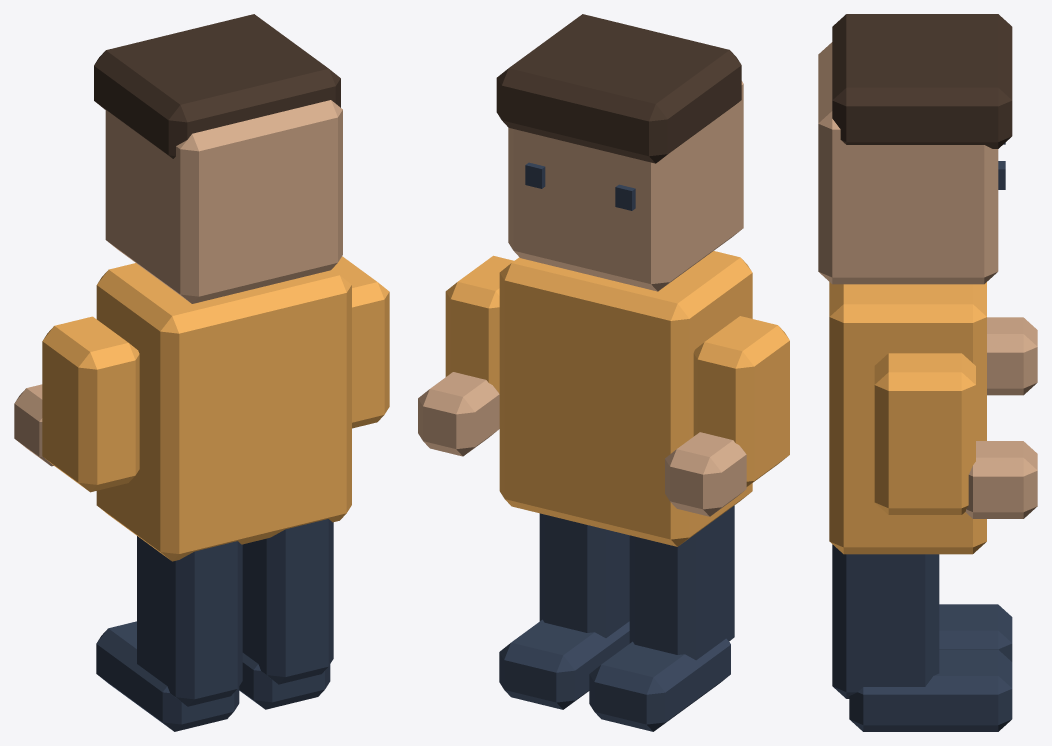
The model's file is agent-qa.glb.
3 views of the same model, side by side, from view 1: azimuth 30°, elevation 25°; view 2: azimuth 150°, elevation 25°; view 3: azimuth 270°, elevation 25° (orthographic). The views are drawn at different scales.
Visible parts, largest first — view 1: Torso.002, Head.002, Hair.002, Leg.004, Sleeve.004, Leg.005, Sleeve.005, Shoe.004, Shoe.005, Hand.004; view 2: Torso.002, Head.002, Hair.002, Leg.004, Sleeve.004, Leg.005, Shoe.004, Shoe.005, Sleeve.005, Hand.004, Hand.005; view 3: Head.002, Torso.002, Hair.002, Sleeve.005, Leg.005, Shoe.005, Hand.005, Hand.004, Shoe.004.
Boxes of the visible parts, x1=… form: Torso.002: x1=96, y1=263, x2=351, y2=561; Head.002: x1=105, y1=100, x2=342, y2=303; Hair.002: x1=94, y1=14, x2=340, y2=158; Leg.004: x1=137, y1=536, x2=242, y2=706; Sleeve.004: x1=42, y1=316, x2=139, y2=492; Leg.005: x1=242, y1=519, x2=333, y2=684; Sleeve.005: x1=332, y1=256, x2=389, y2=428; Shoe.004: x1=96, y1=621, x2=239, y2=731; Shoe.005: x1=239, y1=653, x2=330, y2=709; Hand.004: x1=14, y1=384, x2=53, y2=466; Torso.002: x1=499, y1=251, x2=752, y2=546; Head.002: x1=508, y1=81, x2=743, y2=291; Hair.002: x1=496, y1=14, x2=741, y2=163; Leg.004: x1=629, y1=505, x2=734, y2=660; Sleeve.004: x1=693, y1=316, x2=789, y2=486; Leg.005: x1=539, y1=513, x2=629, y2=637; Shoe.004: x1=589, y1=638, x2=730, y2=731; Shoe.005: x1=499, y1=619, x2=629, y2=709; Sleeve.005: x1=445, y1=255, x2=513, y2=393; Hand.004: x1=665, y1=432, x2=746, y2=516; Hand.005: x1=418, y1=372, x2=499, y2=456; Head.002: x1=818, y1=42, x2=998, y2=284; Torso.002: x1=829, y1=282, x2=986, y2=554; Hair.002: x1=832, y1=14, x2=1012, y2=148; Sleeve.005: x1=874, y1=353, x2=975, y2=514; Leg.005: x1=832, y1=544, x2=939, y2=698; Shoe.005: x1=849, y1=649, x2=1012, y2=731; Hand.005: x1=965, y1=441, x2=1037, y2=518; Hand.004: x1=987, y1=317, x2=1037, y2=395; Shoe.004: x1=939, y1=604, x2=1012, y2=661.
Bounding box in the file's own units: 0.65 × 1.27 × 0.39.
